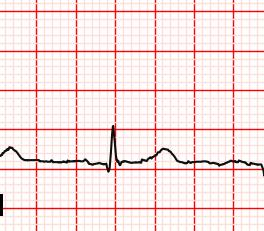LVH: (142, 145, 187, 167)
